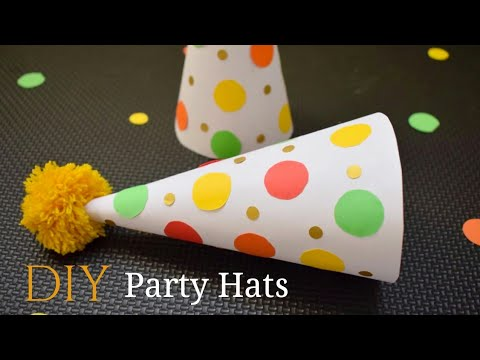cone: (84, 112, 403, 283)
